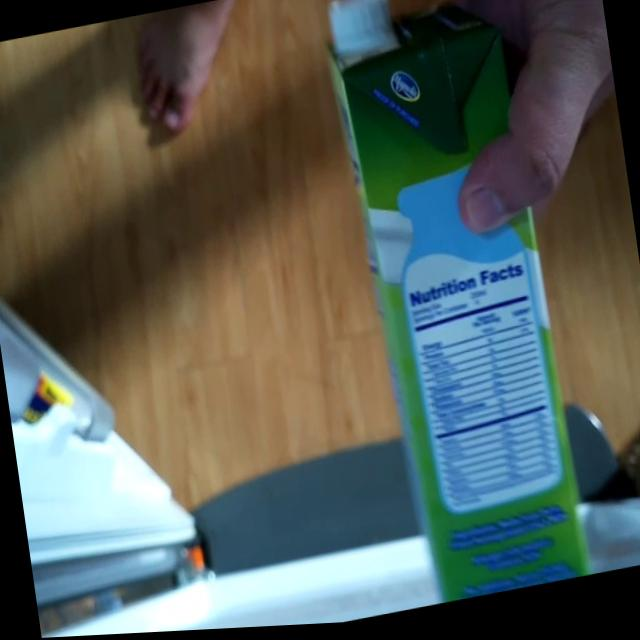milk: (317, 0, 597, 618)
